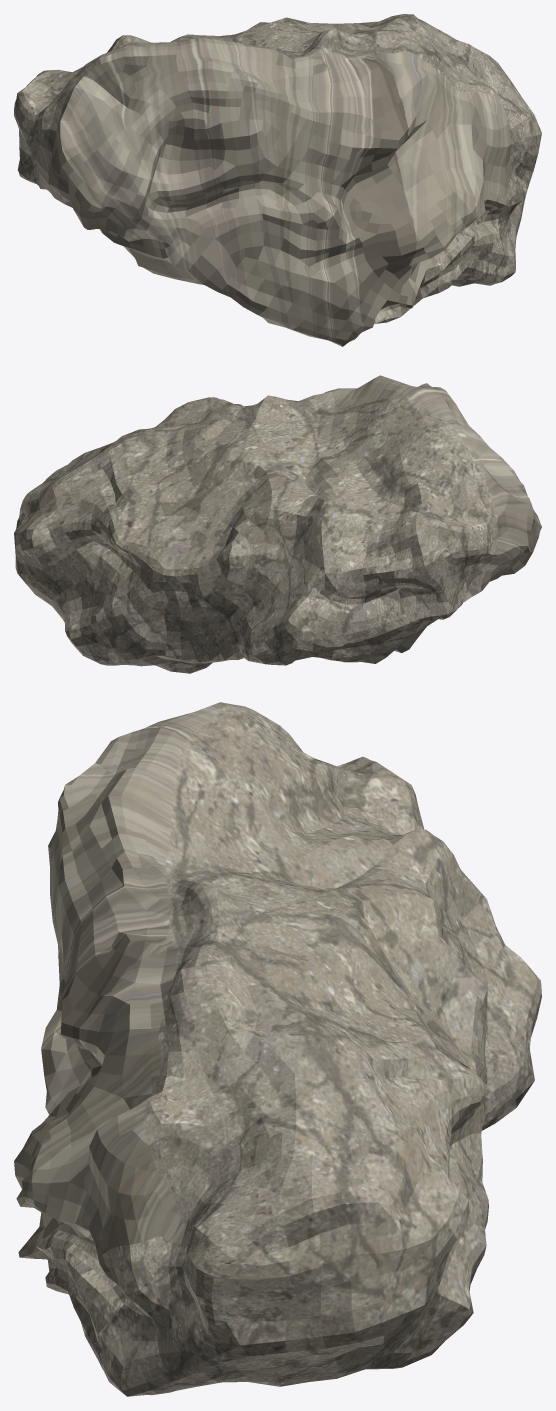
File: rock_1.fbx
3 views of the same model, one above another, from view 1: azimuth 30°, elevation 25°; view 2: azimuth 150°, elevation 25°; view 3: azimuth 270°, elevation 25° (orthographic). The views are drawn at different scales.
Visible parts, largest first — view 1: Rock_1_remeshed_uv_low:Group57953; view 2: Rock_1_remeshed_uv_low:Group57953; view 3: Rock_1_remeshed_uv_low:Group57953.
Boxes of the visible parts, x1=… form: Rock_1_remeshed_uv_low:Group57953: x1=14, y1=14, x2=541, y2=346; Rock_1_remeshed_uv_low:Group57953: x1=14, y1=375, x2=541, y2=673; Rock_1_remeshed_uv_low:Group57953: x1=14, y1=702, x2=541, y2=1396.
Size of the model in its own units: 7.46 by 4.6 by 4.6.
